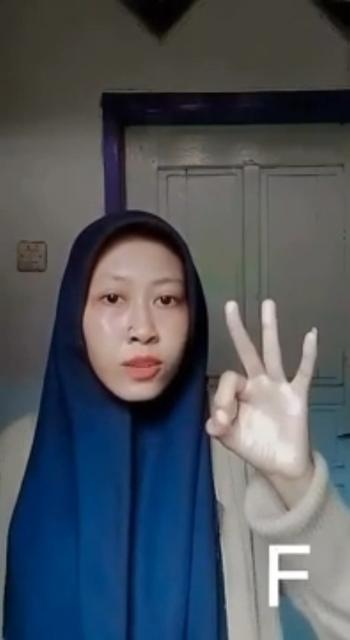F: (199, 301, 324, 473)
